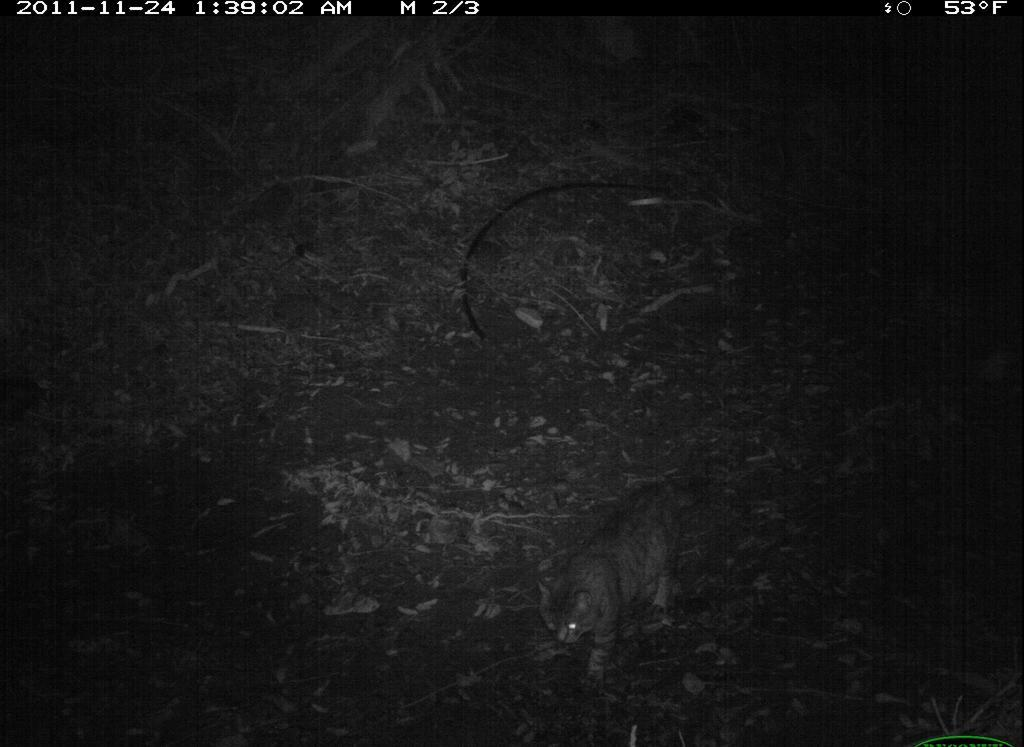cat: (504, 464, 762, 701)
